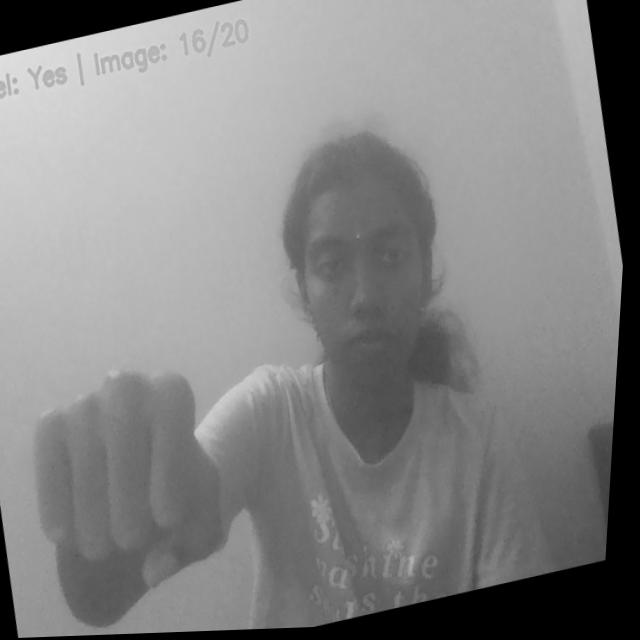Yes: (9, 349, 255, 621)
